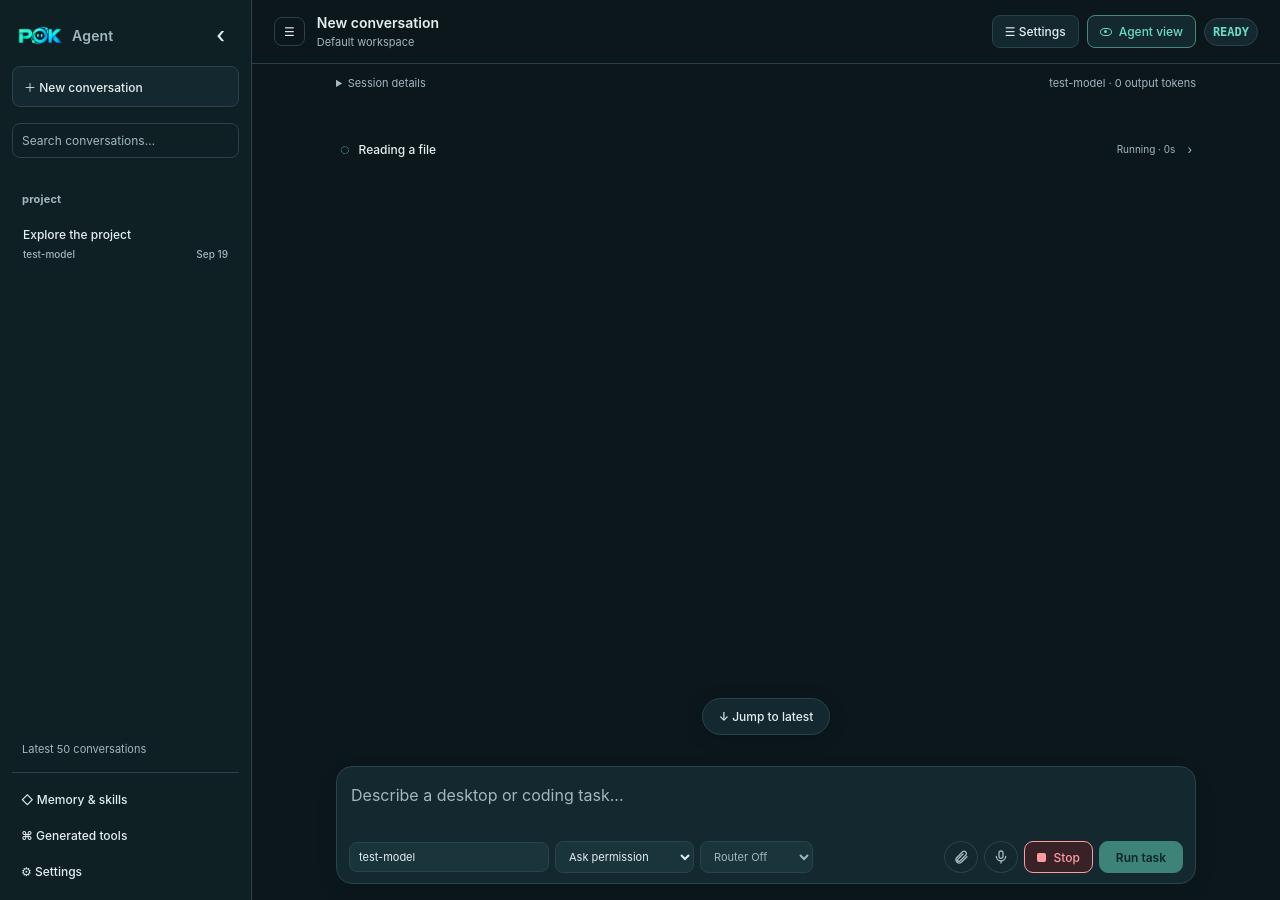
workspace presentation › stops following output when scrolled back and offers jump to latest
Expected: the text "Explore the project" is shown, [23,227,131,242]
Click the button "↓ Jump to latest": (766, 716) [702,698,830,735]
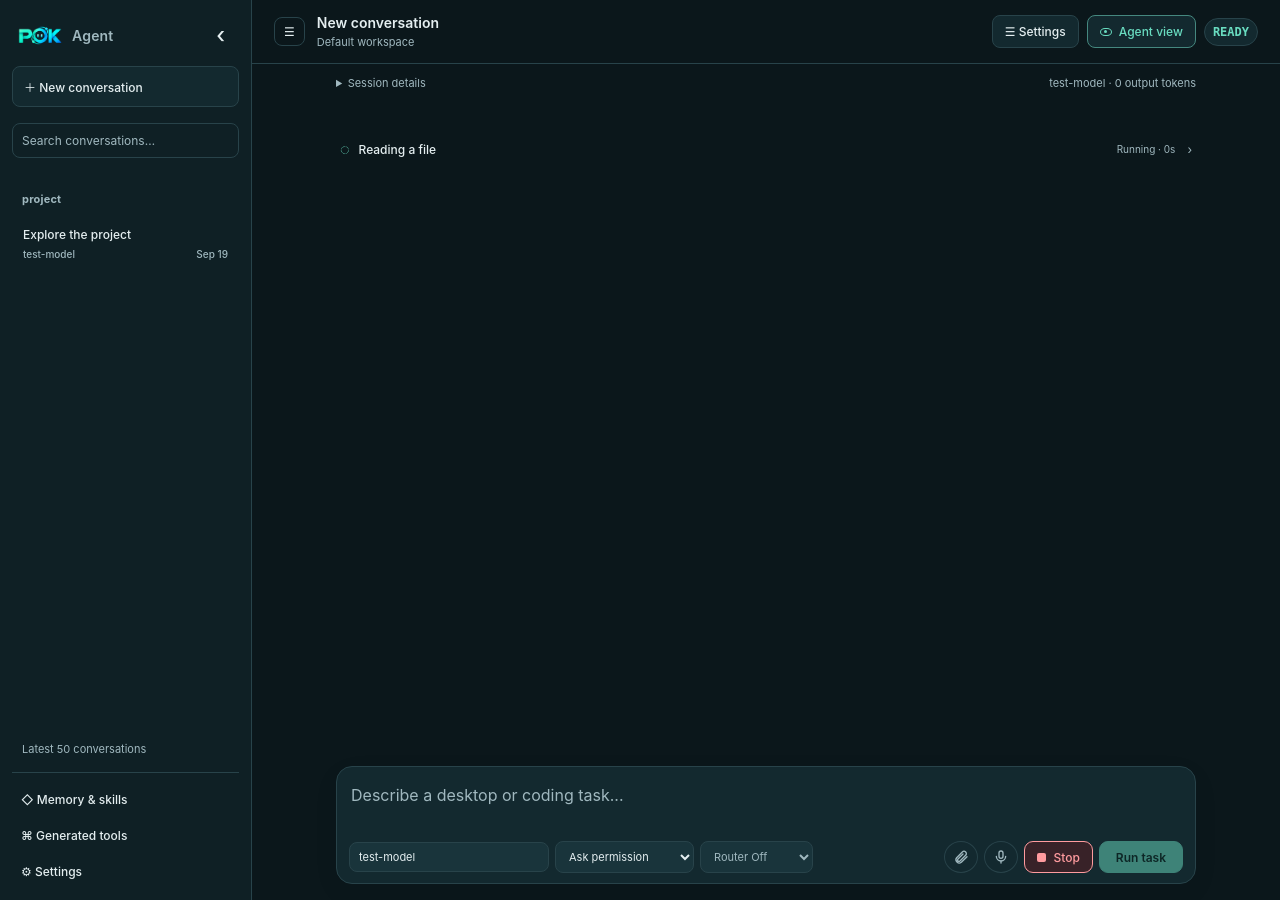
Expected: the button "Jump to latest" is gone
